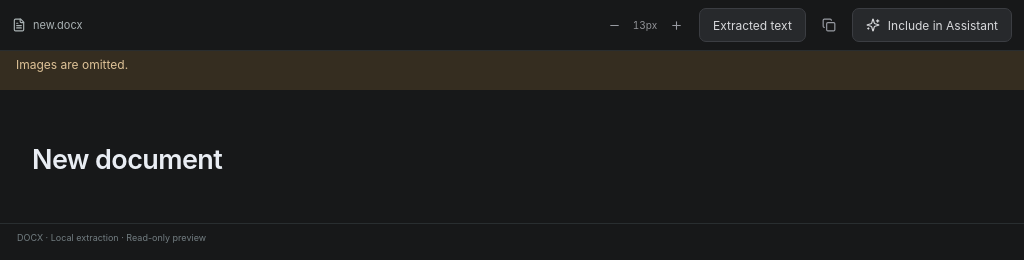
Test case: document examination › ignores stale extraction results after selecting a different document
Expected: the heading "New document" is shown, 32,143 -> 222,176
Expected: the message reads "Images are omitted.", 16,57 -> 128,72
Click the button "Extracted text" at point(752, 25), box 699,8 -> 806,42
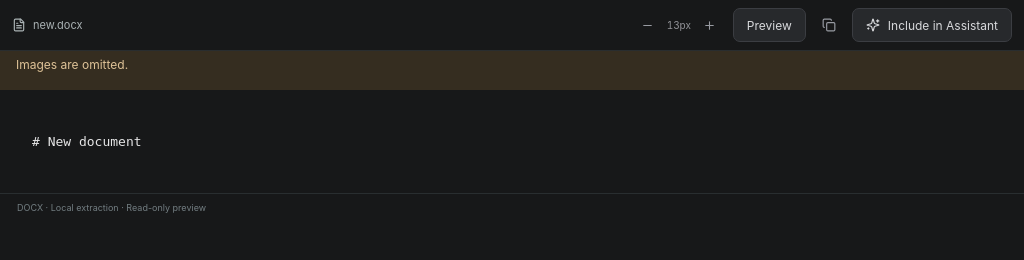
Now the element named "Extracted document content" reads "# New document", box 32,134 -> 142,149
